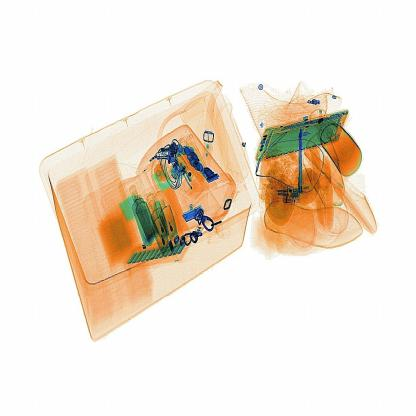pliers: (287, 123, 310, 204)
